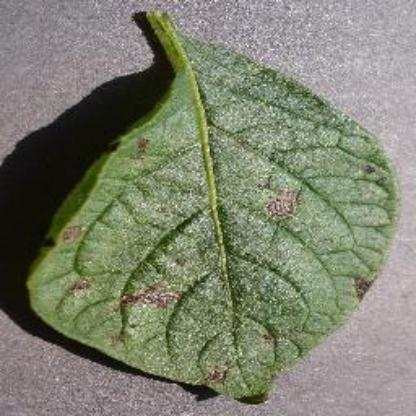Early-Blight: (25, 6, 398, 406)
